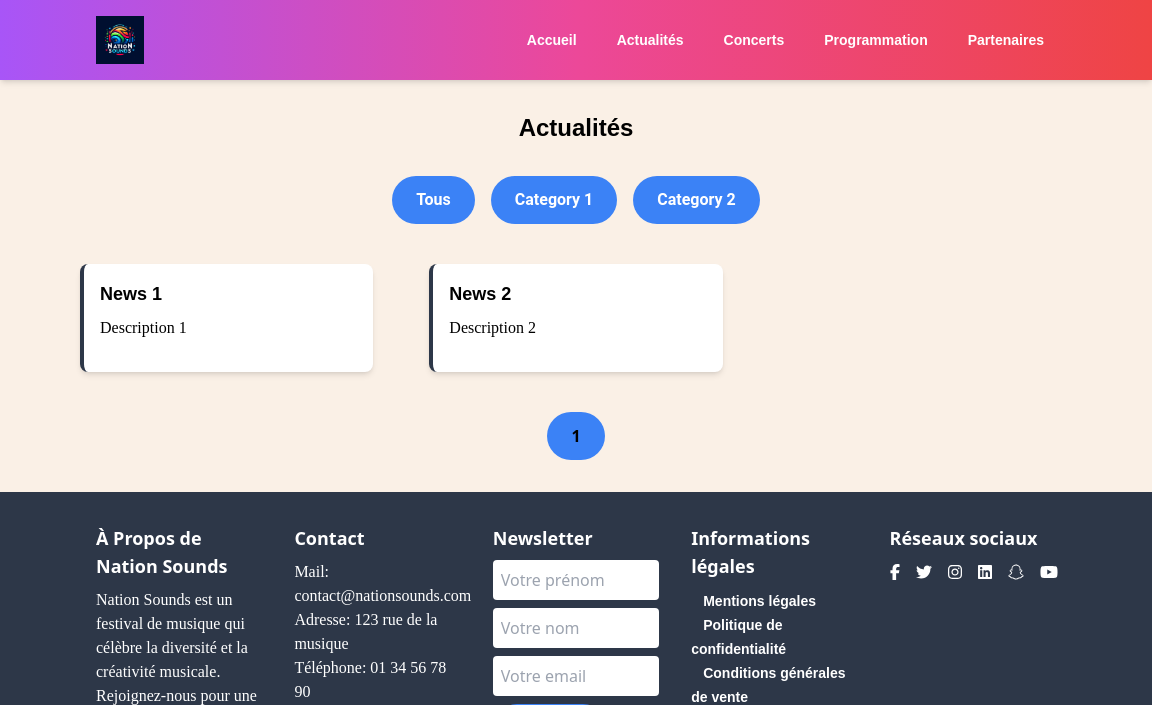
Test: Composant NewsPage › filtre les actualités par catégorie
This screenshot has width=1152, height=705.
Expected: the heading "News 1" is shown, [100, 284, 162, 304]
Expected: the heading "News 2" is shown, [449, 284, 511, 304]
Click the button "Category 1": (554, 200) [491, 176, 617, 224]
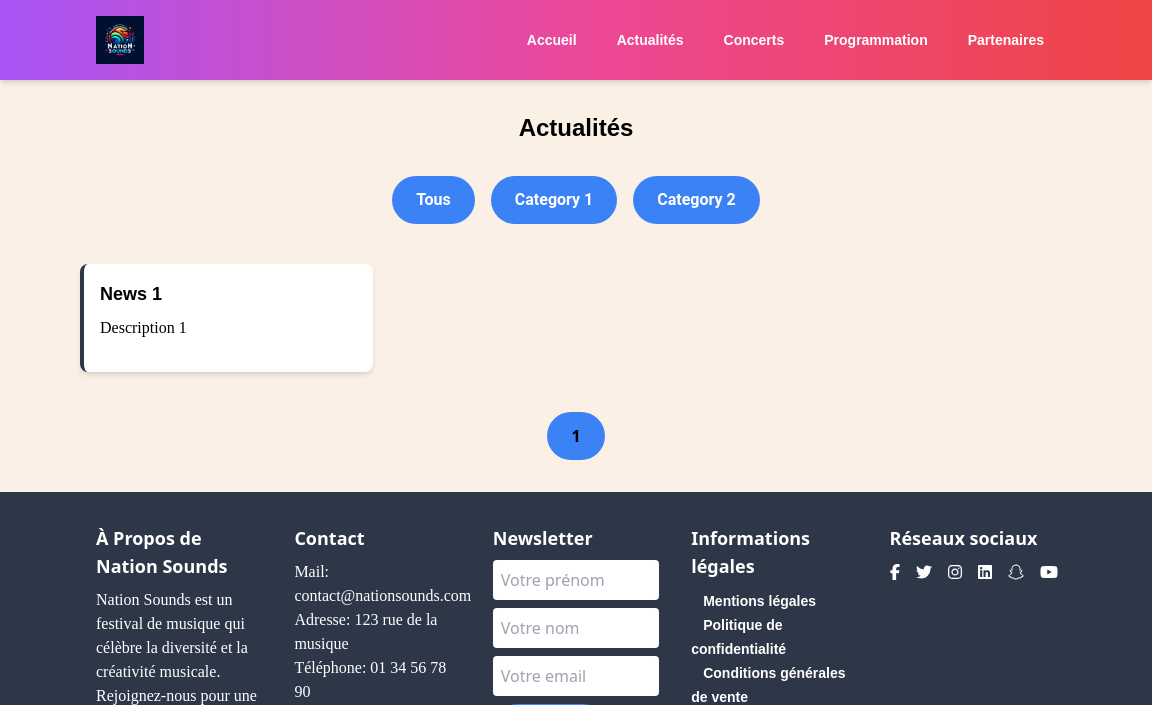
Expected: the heading "News 1" is shown, [100, 284, 162, 304]
Expected: the heading "News 2" is gone
